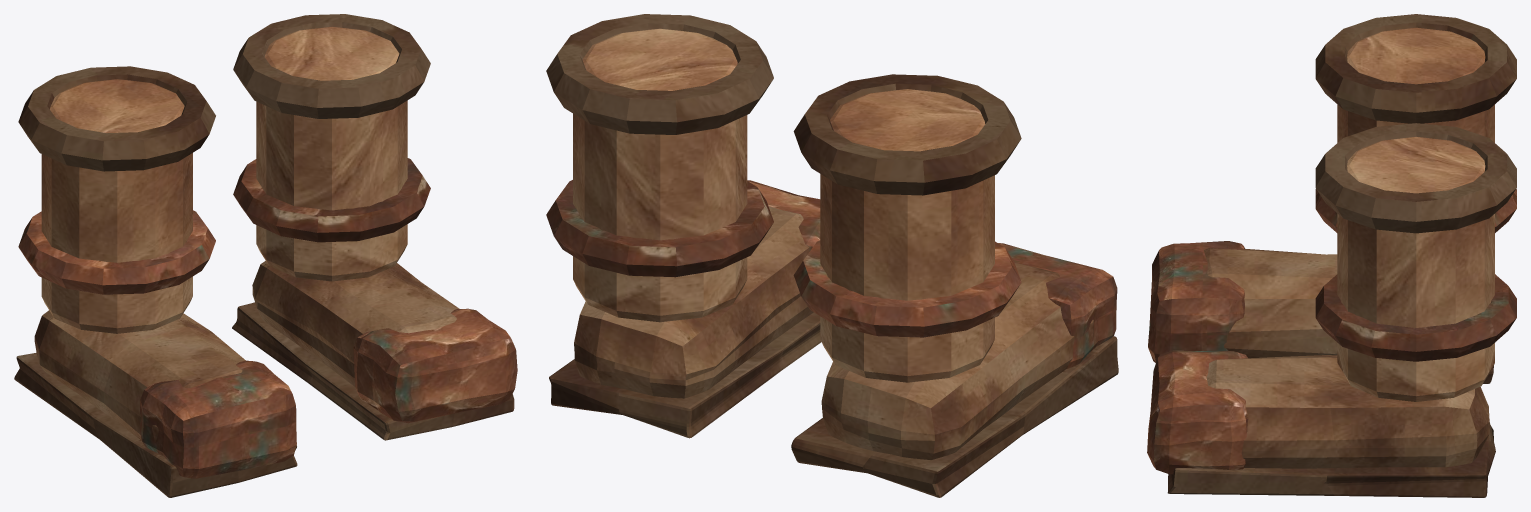
Rendered from boots_copper.glb.
3 renders of one model, left to right at view 1: azimuth 30°, elevation 25°; view 2: azimuth 150°, elevation 25°; view 3: azimuth 270°, elevation 25°, orthographic. The views are drawn at different scales.
Visible parts, largest first — view 1: model; view 2: model; view 3: model.
Boxes of the visible parts, box(x1,y1,x2,y2) form: model: box(14, 14, 517, 497); model: box(546, 14, 1118, 497); model: box(1147, 14, 1516, 497).
Size of the model in its own units: 0.324 by 0.2359 by 0.2578.
Materials: 6 (6 with a texture image).
